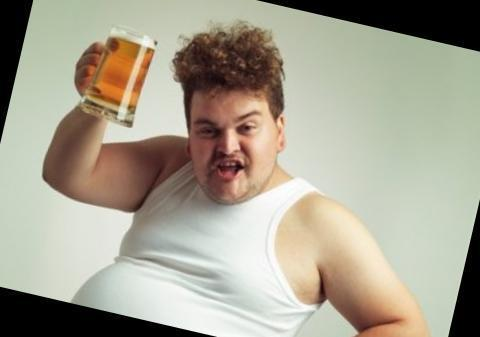Drunk: (188, 89, 271, 193)
